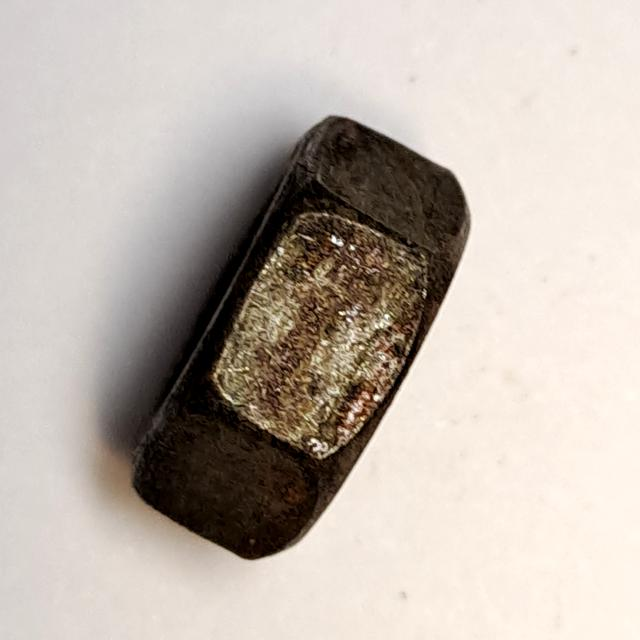Side_Rust: (115, 104, 486, 573)
